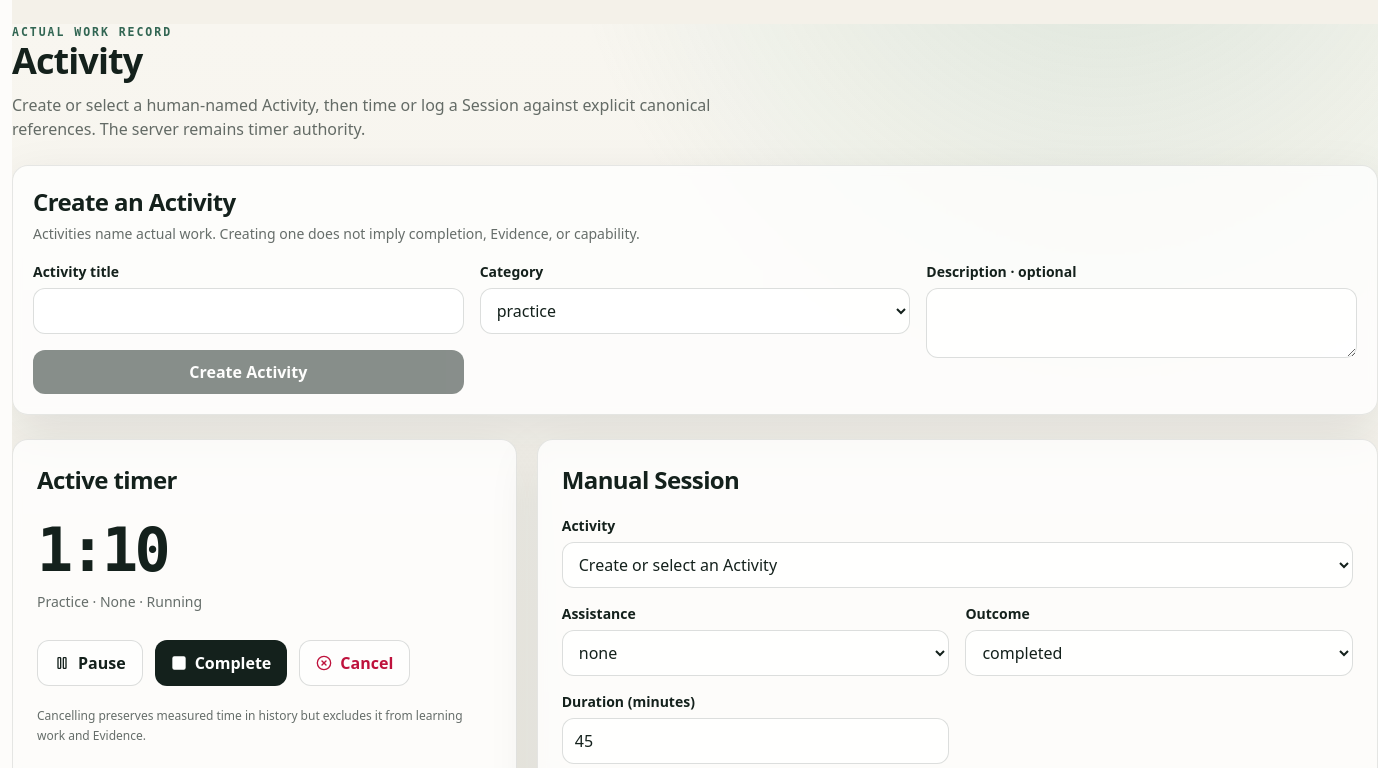
critical learning workflows › reconstructs a refresh-safe active timer and sends pause to the server
The width and height of the screenshot is (1378, 768).
Expected: the text "1:10" is shown, [37,515,167,585]
Click the button "Pause": (90, 663) [37,640,143,686]
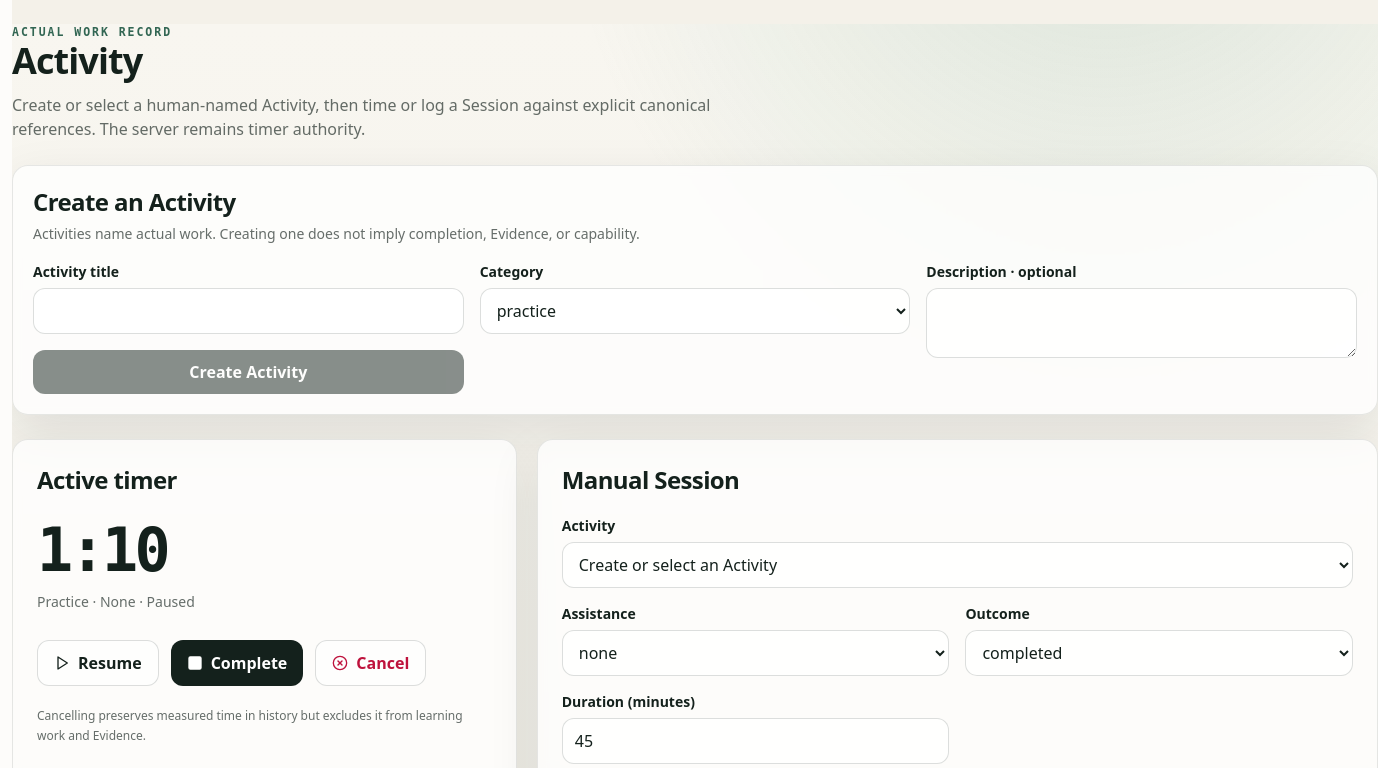
Expected: the button "Resume" is shown, [37,640,159,686]
